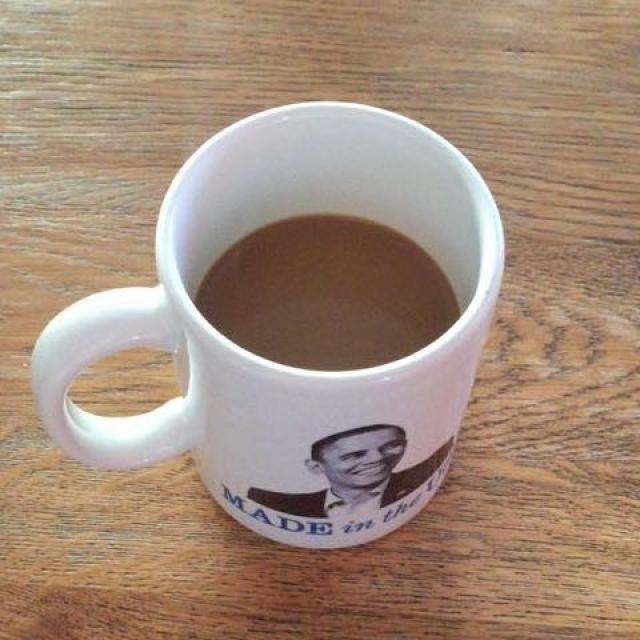coffee: (197, 214, 455, 370)
